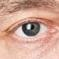eye: (22, 24, 40, 35)
